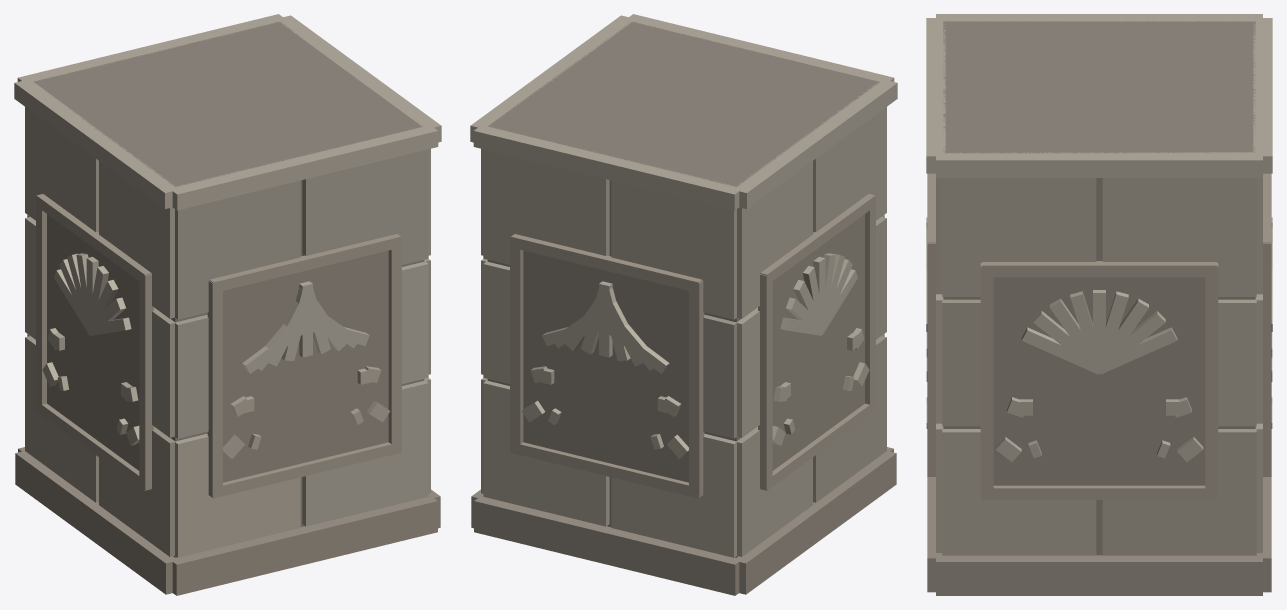
File: dk_wall_relief.gltf
3 renders of one model, left to right at view 1: azimuth 30°, elevation 25°; view 2: azimuth 150°, elevation 25°; view 3: azimuth 270°, elevation 25°, orthographic. The views are drawn at different scales.
Visible parts, largest first — view 1: Body; view 2: Body; view 3: Body.
Boxes of the visible parts, x1,y1,x2,y2 form: Body: (14, 14, 441, 595); Body: (470, 14, 897, 595); Body: (926, 14, 1272, 595).
Bounding box in the file's own units: 3.24 × 4.5 × 3.24.
